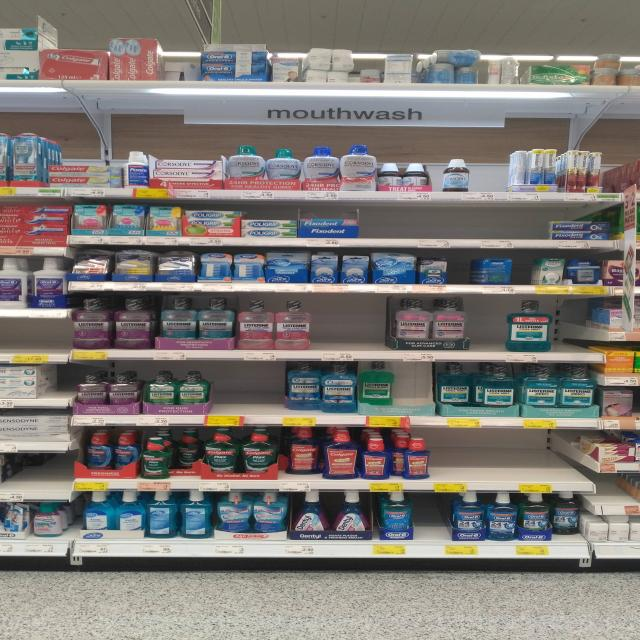void: (314, 292, 360, 360), (497, 428, 539, 492), (542, 431, 582, 491), (209, 360, 245, 426), (470, 294, 505, 361), (475, 136, 511, 200), (556, 300, 593, 362), (359, 296, 394, 360), (248, 362, 282, 425), (464, 430, 498, 492), (414, 492, 446, 556), (434, 427, 464, 491), (0, 450, 35, 501), (364, 205, 406, 247), (0, 316, 37, 361), (36, 450, 68, 501), (446, 202, 483, 246), (482, 200, 514, 248), (410, 204, 442, 248), (517, 203, 549, 246), (40, 318, 70, 362), (450, 252, 482, 293)
